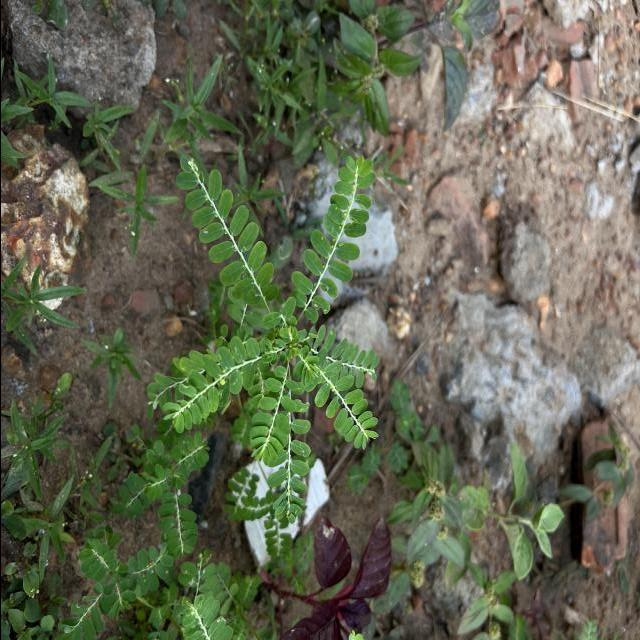Phyllanthus niruri: (172, 150, 278, 316), (289, 153, 377, 324), (160, 337, 270, 435), (301, 347, 379, 454), (264, 404, 310, 524), (248, 364, 296, 468)
